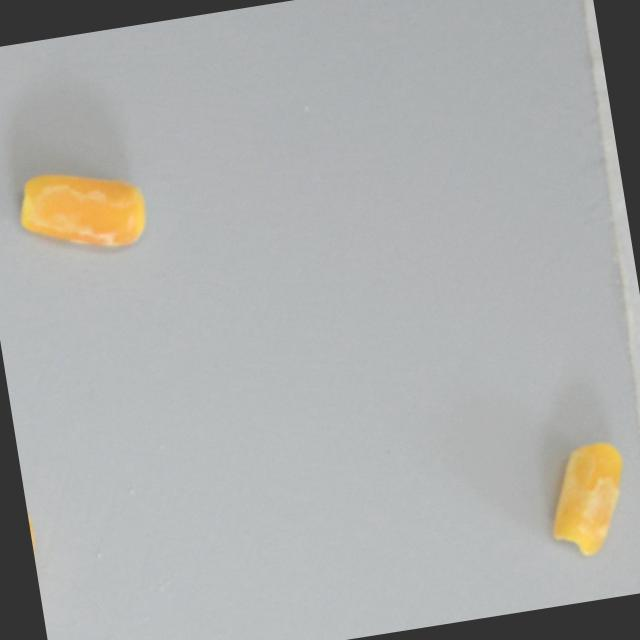pelicula: (11, 155, 153, 263), (538, 437, 637, 562)
